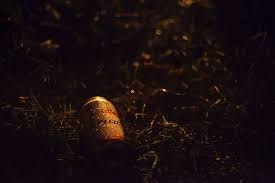can: (81, 95, 127, 152)
